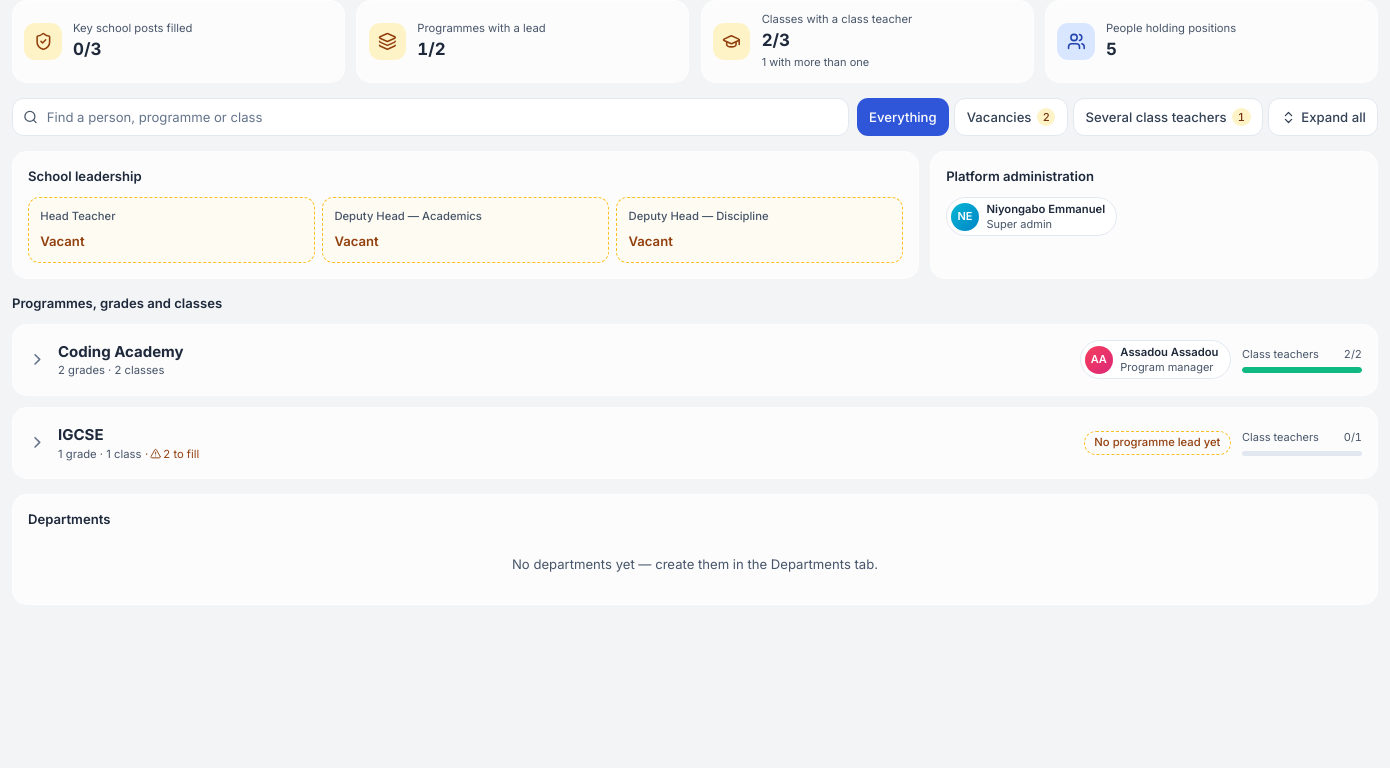
Structure tab › finds a person and shows only where they hold positions
The image size is (1390, 768).
Type "faustin" into the search field labelled "Find a person, programme or class" at (431, 117), box top-left (12, 98), bottom-right (849, 136)
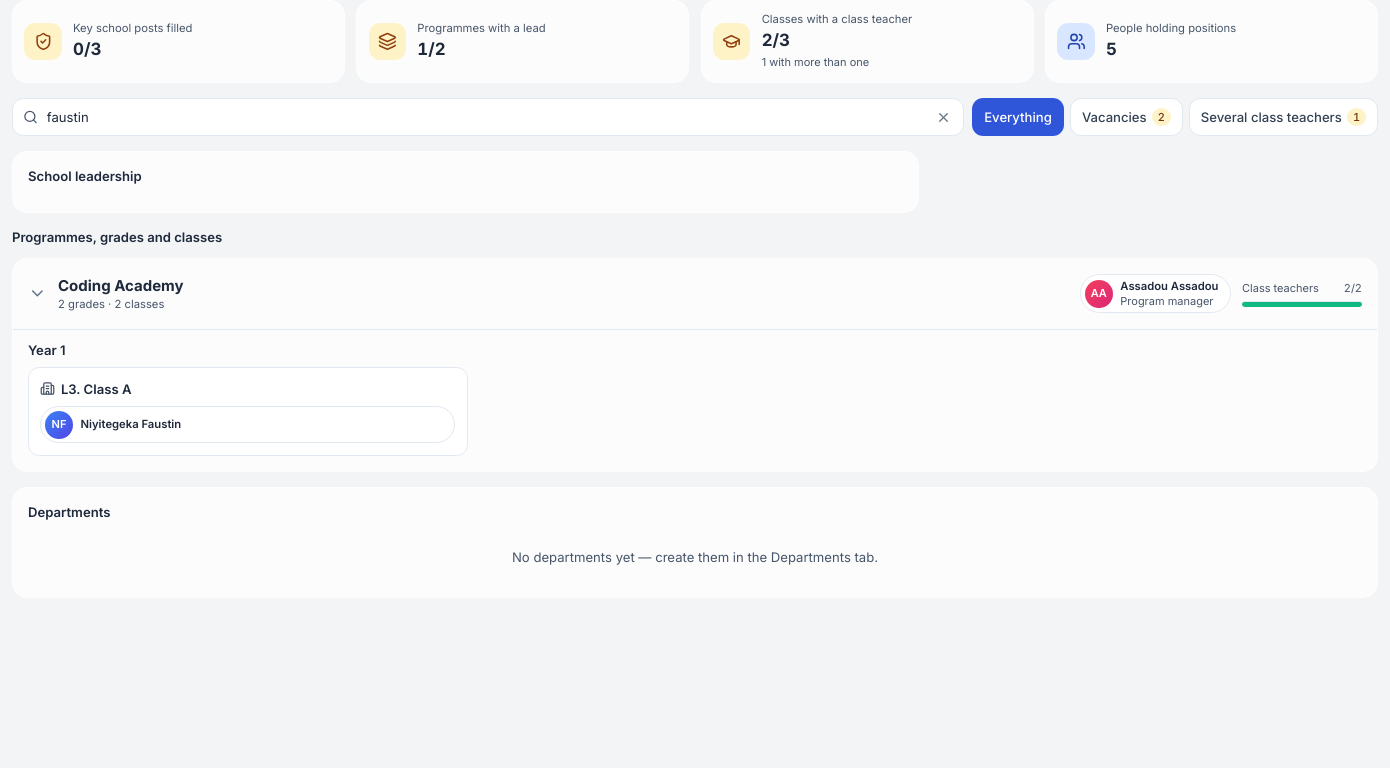
expect the text "L3. Class A" is shown: met, box top-left (40, 380), bottom-right (132, 398)
expect the button "IGCSE" is gone: met
